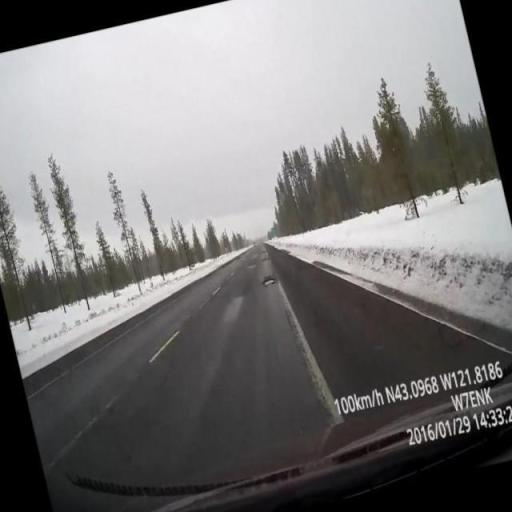pothole: (133, 142, 400, 428)
